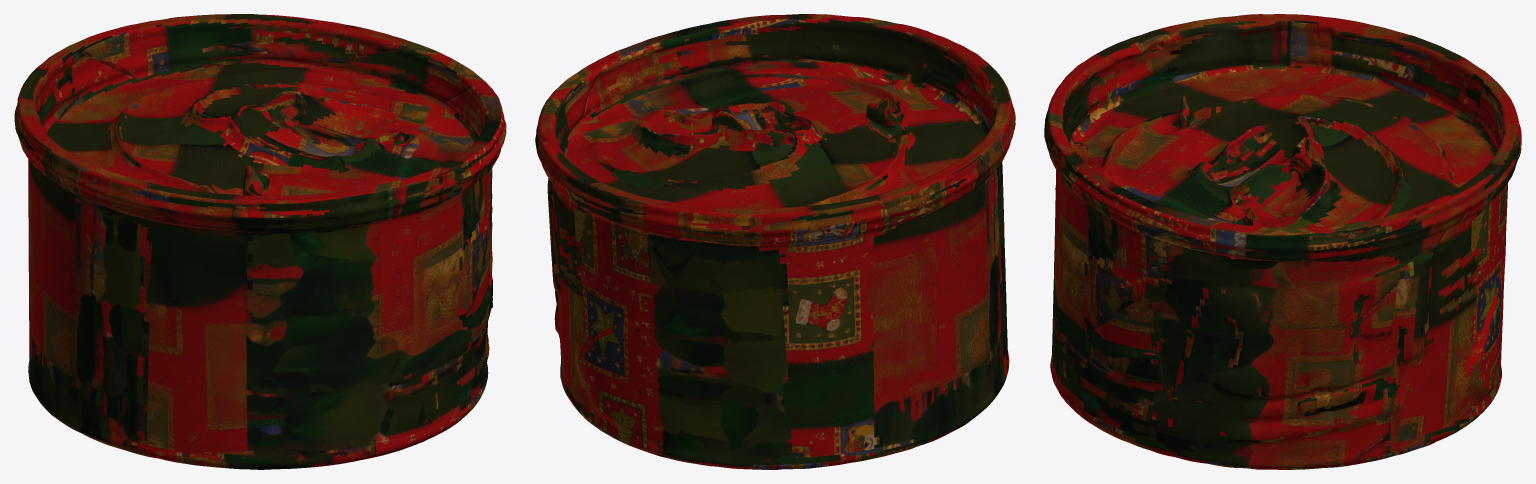
File: Axion.fbx
3 renders of one model, left to right at view 1: azimuth 30°, elevation 25°; view 2: azimuth 150°, elevation 25°; view 3: azimuth 270°, elevation 25°, orthographic. The views are drawn at different scales.
Visible parts, largest first — view 1: tripo_node_1ac395b7; view 2: tripo_node_1ac395b7; view 3: tripo_node_1ac395b7.
Part boxes in pixels (x1,y1,x2,y2): tripo_node_1ac395b7: (14, 14, 506, 469); tripo_node_1ac395b7: (535, 14, 1015, 469); tripo_node_1ac395b7: (1044, 14, 1521, 469).
Bounding box in the file's own units: 0.9948 × 0.6276 × 0.996.
